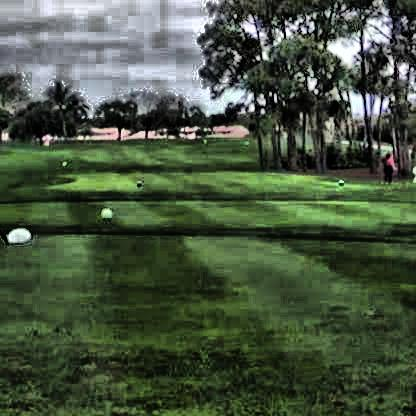golfball: (98, 206, 112, 220)
